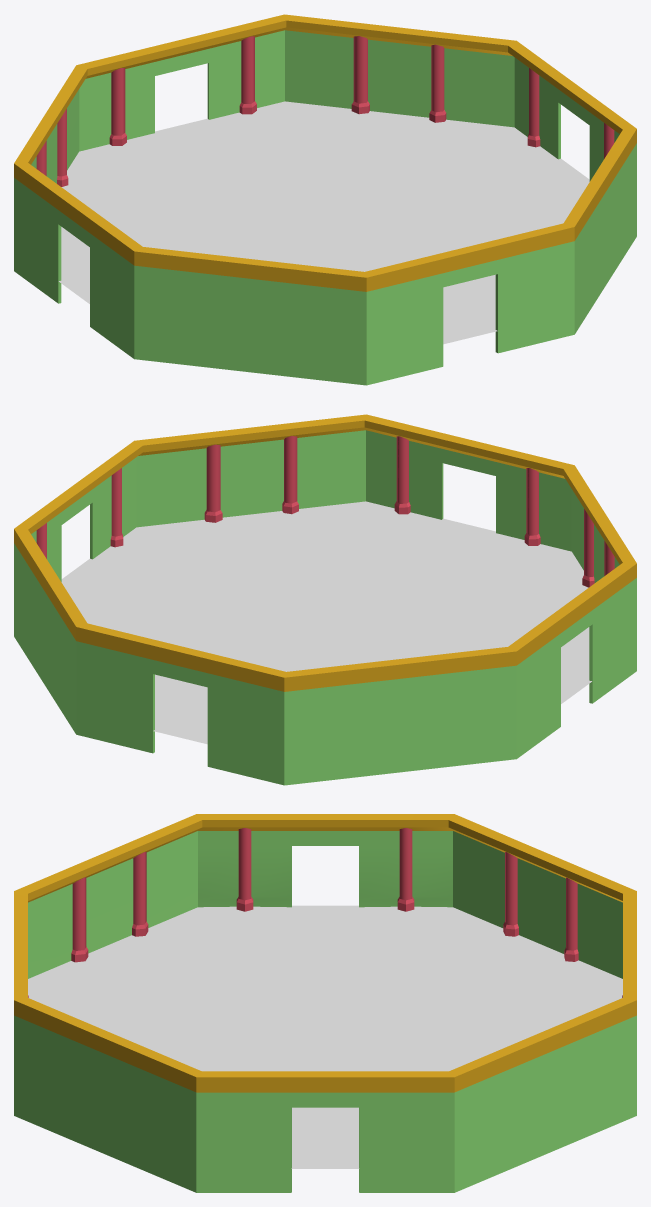
The model's file is SpawnRoom 1.fbx.
3 views of the same model, one above another, from view 1: azimuth 30°, elevation 25°; view 2: azimuth 150°, elevation 25°; view 3: azimuth 270°, elevation 25° (orthographic). The views are drawn at different scales.
Parts seen in each view (by area): view 1: Cylinder.002, Cylinder.001; view 2: Cylinder.002, Cylinder.001; view 3: Cylinder.002, Cylinder.001.
Part boxes in pixels (x1,y1,x2,y2): Cylinder.002: (14,14,636,385); Cylinder.001: (59,101,589,344); Cylinder.002: (14,414,636,785); Cylinder.001: (61,501,591,744); Cylinder.002: (14,814,636,1192); Cylinder.001: (28,905,622,1168).
Bounding box in the file's own units: 3696 × 757 × 3696.
